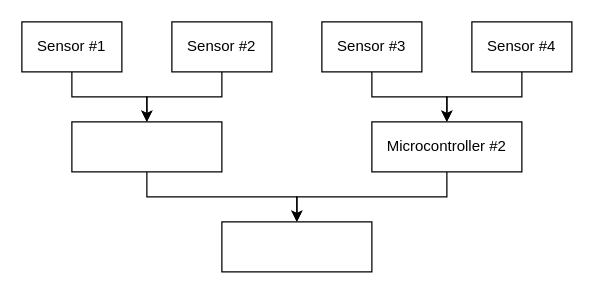
Some shapes in this 594 by 294 pixel diagram are drawn without their labels. Here are the shapes that lost their labels. From the top down, the box of each, then its label:
(71, 121, 222, 172): Microcontroller #1
(221, 221, 372, 272): Computer
